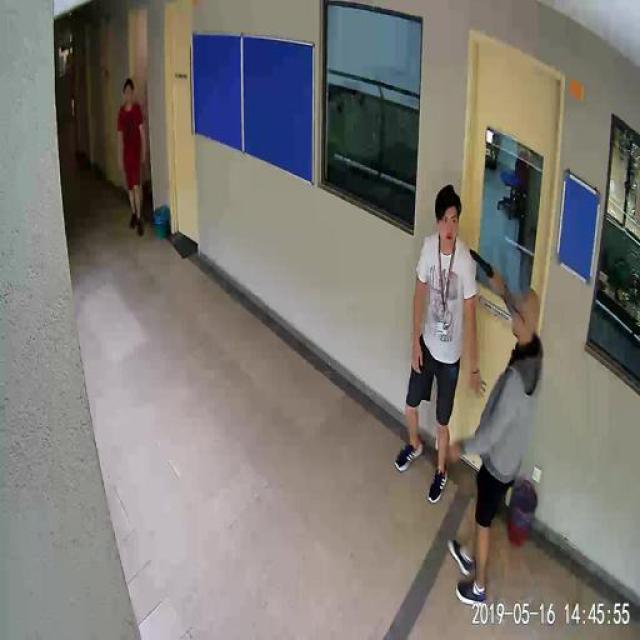Gun: (469, 248, 495, 282)
